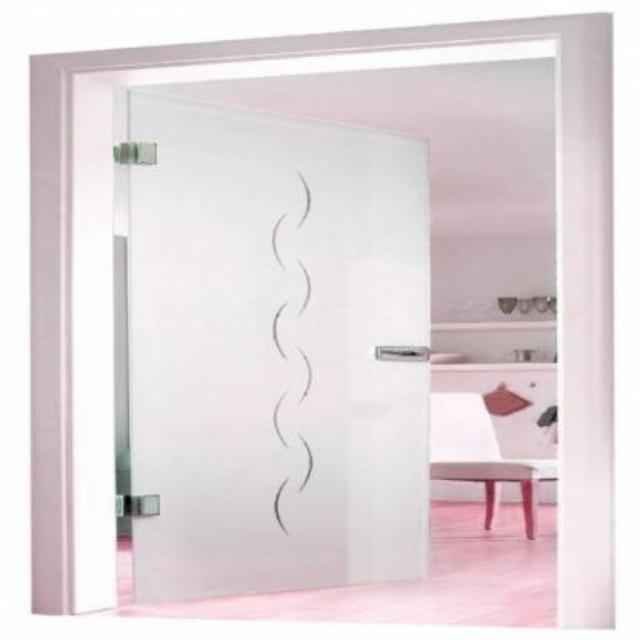door: (121, 88, 432, 604)
